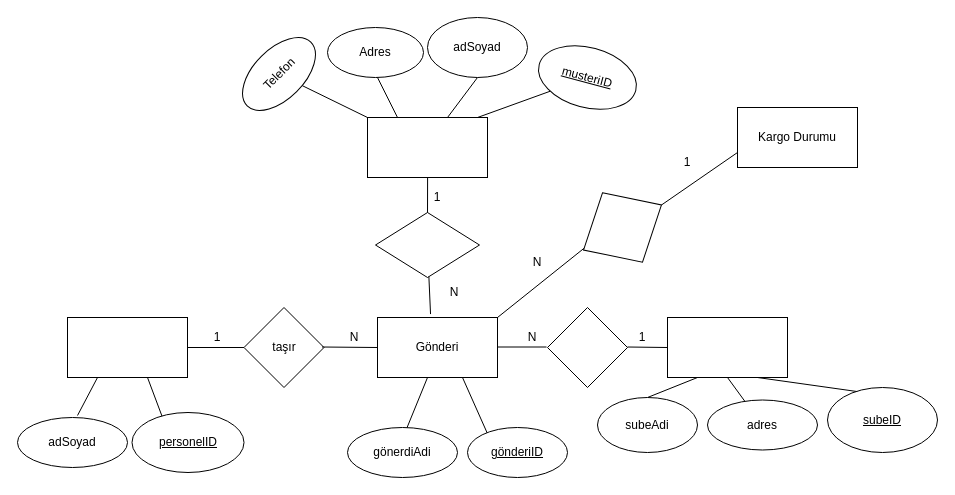
This 955x495 diagram has some shape labels left out. The box of each missing label's shape, as (x1, y1, x2, y2) in pixels:
alır: (562, 169, 682, 285)
Musteri: (366, 116, 488, 178)
oluşturur: (374, 212, 480, 278)
Personel: (66, 316, 188, 378)
Sube: (666, 316, 788, 378)
teslim edilir: (546, 306, 628, 388)
